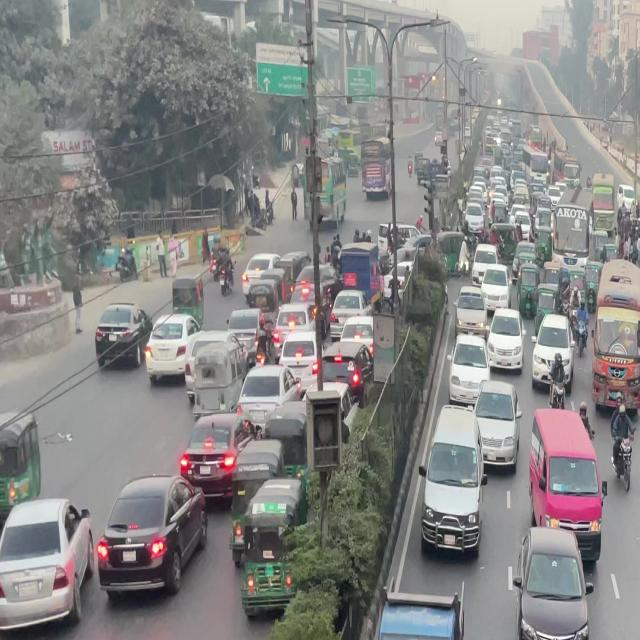bus: (587, 263, 640, 413)
car: (95, 472, 212, 598), (0, 498, 94, 636), (421, 402, 484, 560), (529, 405, 606, 532), (514, 529, 594, 640), (180, 414, 275, 505), (92, 303, 152, 370), (476, 390, 520, 475), (142, 314, 196, 383)
rickshaw: (232, 476, 309, 626), (629, 587, 640, 639)
van: (373, 584, 468, 640)
